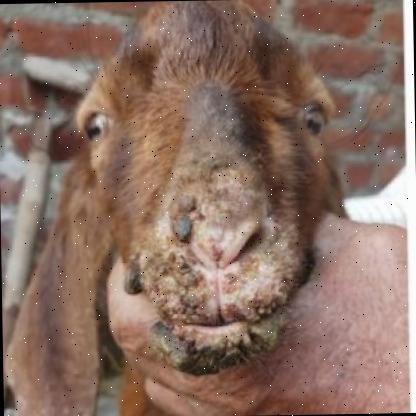ppr: (127, 217, 314, 364)
